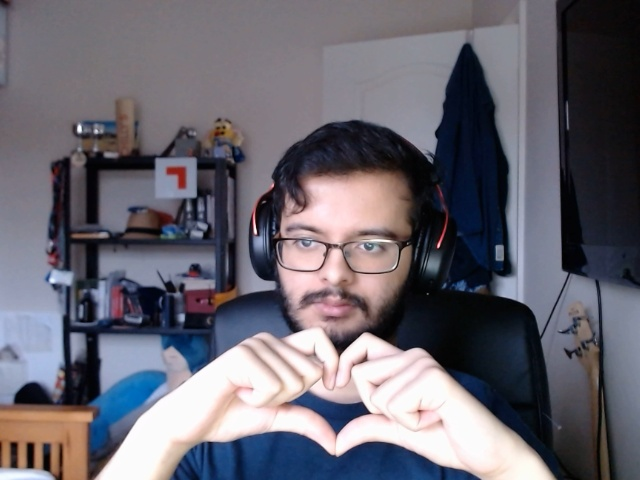Heart: (153, 322, 500, 480)
